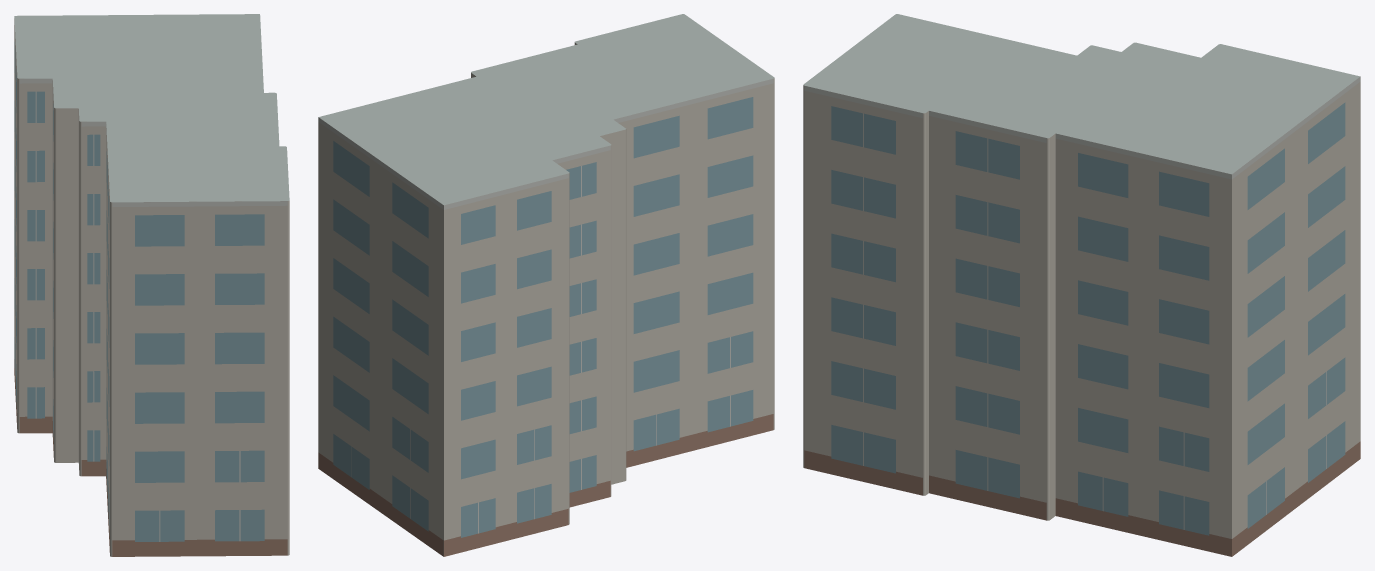
File: survey-upis-32607504.glb
3 views of the same model, side by side, from view 1: azimuth 30°, elevation 25°; view 2: azimuth 150°, elevation 25°; view 3: azimuth 270°, elevation 25° (orthographic). The views are drawn at different scales.
Visible parts, largest first — view 1: survey-upis-32607504.tmp; view 2: survey-upis-32607504.tmp; view 3: survey-upis-32607504.tmp.
Boxes of the visible parts, bbox=[...] form: survey-upis-32607504.tmp: bbox=[14, 14, 289, 556]; survey-upis-32607504.tmp: bbox=[318, 14, 774, 556]; survey-upis-32607504.tmp: bbox=[803, 14, 1360, 556].
Size of the model in its own units: 16.47 by 18.3 by 24.17.
